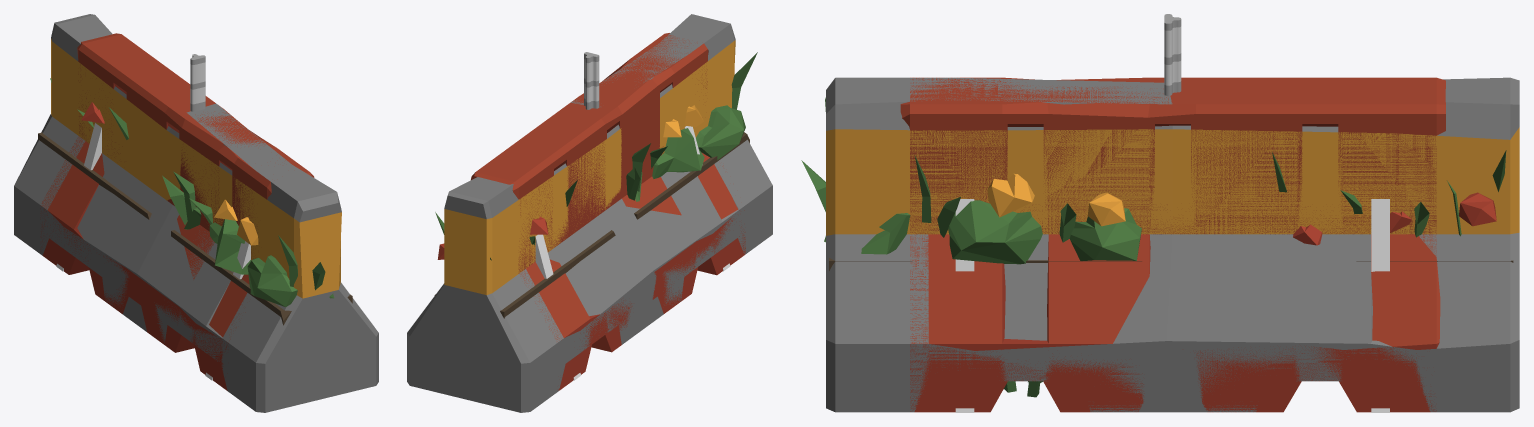
The model's file is dividers.glb.
The picture shows the model from 3 angles, left to right: view 1: azimuth 30°, elevation 25°; view 2: azimuth 150°, elevation 25°; view 3: azimuth 270°, elevation 25°; orthographic projection. The views are drawn at different scales.
Parts seen in each view (by area): view 1: jersey-barrier-concrete, jersey-barrier-plastic, planter-box, barricade, bollard; view 2: jersey-barrier-concrete, jersey-barrier-plastic, planter-box, bollard, barricade; view 3: jersey-barrier-concrete, jersey-barrier-plastic, planter-box, barricade, bollard.
Boxes of the visible parts, left/top/right/bottom form: jersey-barrier-concrete: left=14, top=14, right=378, bottom=412; jersey-barrier-plastic: left=40, top=33, right=314, bottom=390; planter-box: left=38, top=78, right=352, bottom=325; barricade: left=56, top=123, right=250, bottom=380; bollard: left=190, top=54, right=205, bottom=111; jersey-barrier-concrete: left=407, top=14, right=772, bottom=412; jersey-barrier-plastic: left=471, top=33, right=745, bottom=390; planter-box: left=434, top=52, right=757, bottom=318; bollard: left=584, top=52, right=599, bottom=109; barricade: left=535, top=126, right=730, bottom=380; jersey-barrier-concrete: left=826, top=77, right=1519, bottom=412; jersey-barrier-plastic: left=900, top=77, right=1445, bottom=412; planter-box: left=801, top=97, right=1513, bottom=270; barricade: left=955, top=199, right=1389, bottom=412; bollard: left=1164, top=14, right=1181, bottom=95.
Bounding box in the file's own units: 0.664 × 1.28 × 2.37.
Materials: 1 (1 with a texture image).
